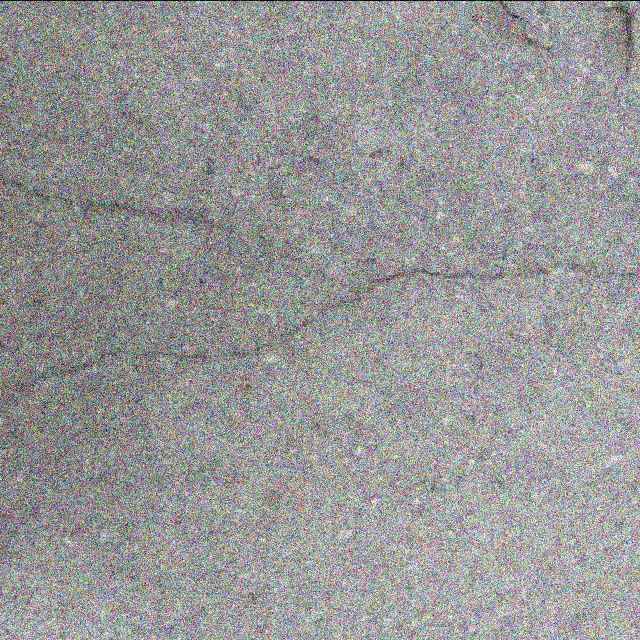SurfaceCrack: (0, 230, 636, 406)
